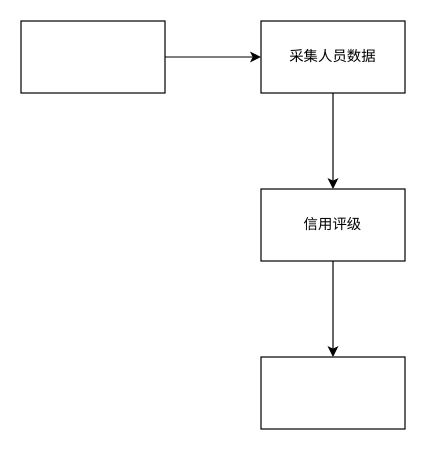
Image size: 426x450. Some labels were removed from this diagram. Each missing label, with the centre of its shape:
"信用采集" goes at point 92,56.
"对机构和人员进行信用评价" goes at point 332,392.
